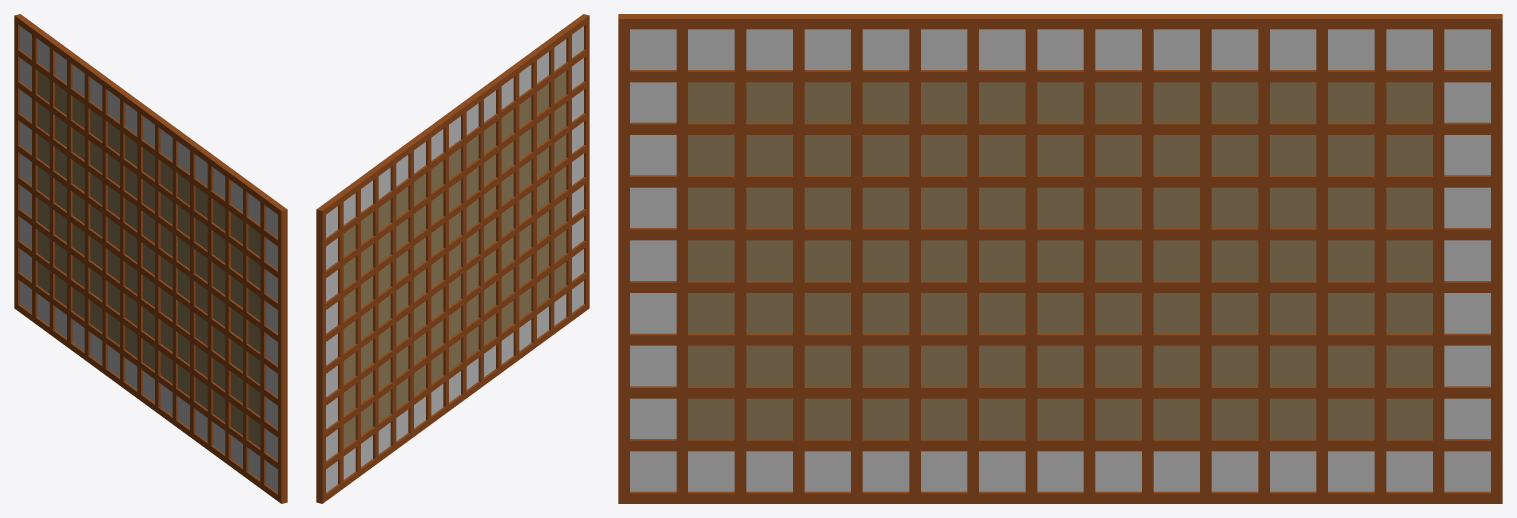
Rendered from SlicedRoof.fbx.
3 renders of one model, left to right at view 1: azimuth 30°, elevation 25°; view 2: azimuth 150°, elevation 25°; view 3: azimuth 270°, elevation 25°, orthographic. The views are drawn at different scales.
Parts seen in each view (by area): view 1: Cube; view 2: Cube; view 3: Cube.
Boxes of the visible parts, x1=… form: Cube: x1=14, y1=14, x2=287, y2=503; Cube: x1=316, y1=14, x2=589, y2=503; Cube: x1=618, y1=14, x2=1502, y2=503.
Bounding box in the file's own units: 111 × 5116 × 8452.
